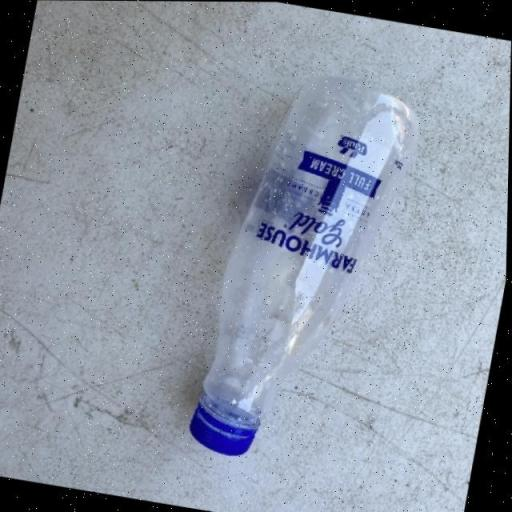plastic: (186, 60, 428, 476)
